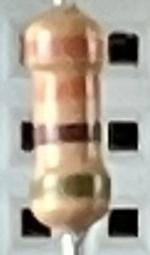Brown: (34, 121, 101, 145)
Orange: (23, 35, 104, 62), (33, 75, 100, 105)
Side-Gold: (32, 172, 111, 201)
